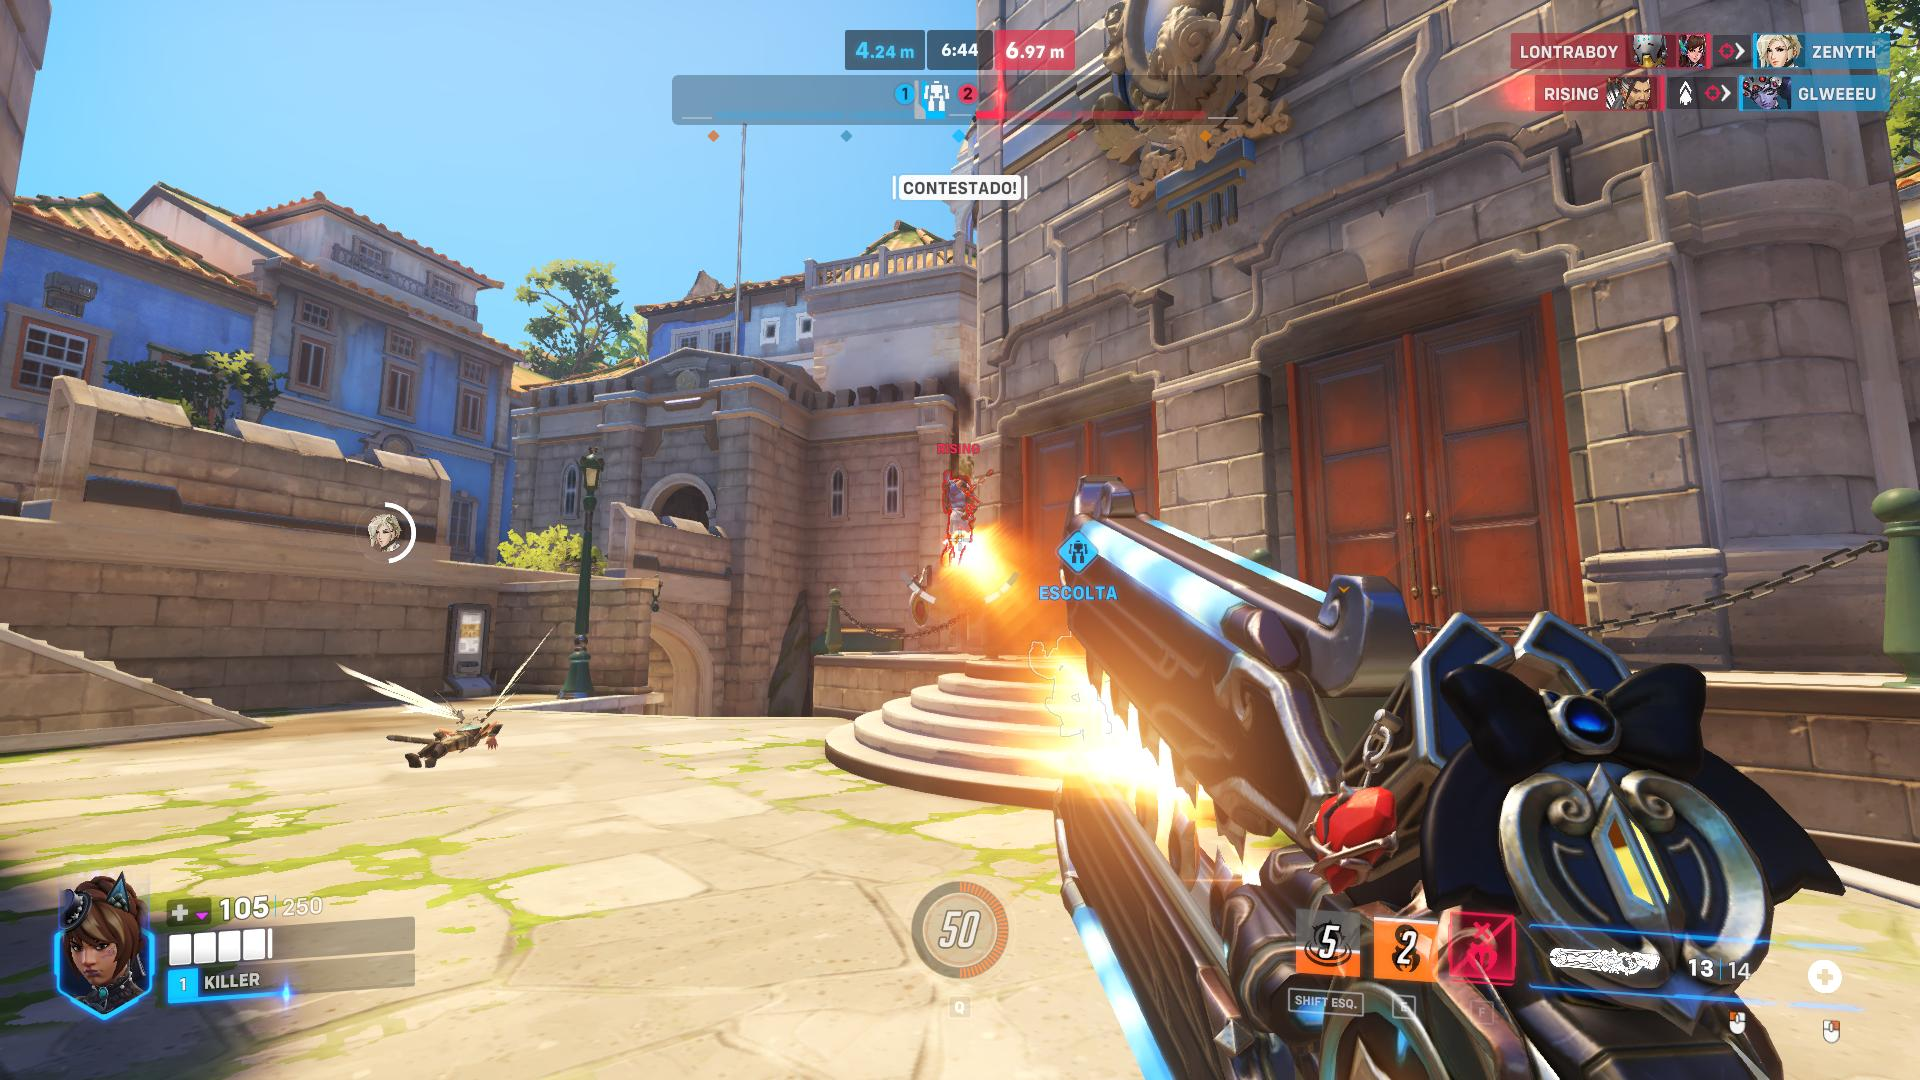enemy: (940, 476, 980, 568)
